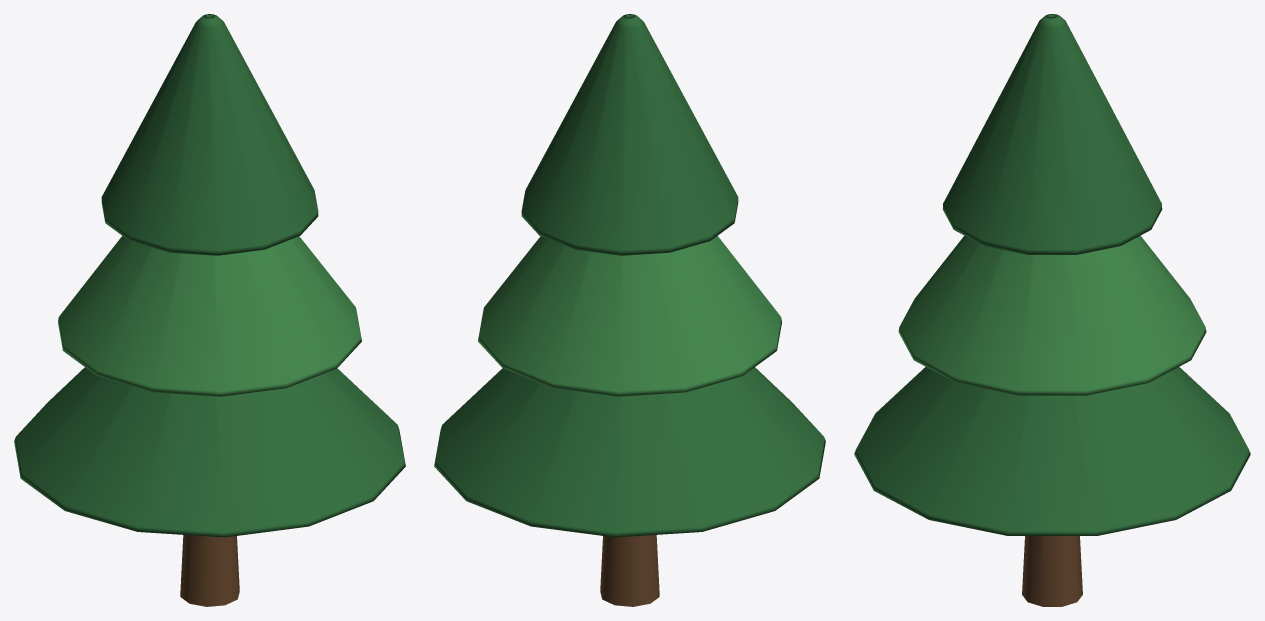
Rendered from prop_tree_conifer_0.glb.
3 views of the same model, side by side, from view 1: azimuth 30°, elevation 25°; view 2: azimuth 150°, elevation 25°; view 3: azimuth 270°, elevation 25° (orthographic).
Parts seen in each view (by area): view 1: Tier0, Tier1, Tier2, Trunk; view 2: Tier0, Tier1, Tier2, Trunk; view 3: Tier0, Tier1, Tier2, Trunk.
Boxes of the visible parts, left/top/right/bottom form: Tier0: left=14, top=367, right=405, bottom=537; Tier1: left=58, top=236, right=361, bottom=396; Tier2: left=101, top=14, right=318, bottom=255; Trunk: left=180, top=535, right=239, bottom=606; Tier0: left=434, top=367, right=825, bottom=537; Tier1: left=478, top=236, right=781, bottom=396; Tier2: left=521, top=14, right=738, bottom=255; Trunk: left=600, top=535, right=659, bottom=606; Tier0: left=854, top=367, right=1250, bottom=535; Tier1: left=898, top=235, right=1206, bottom=395; Tier2: left=942, top=14, right=1162, bottom=254; Trunk: left=1022, top=536, right=1082, bottom=606.
Bounding box in the file's own units: 3.04 × 5.03 × 3.12.
